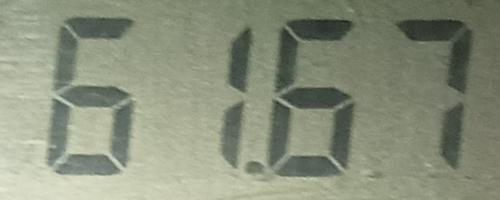.: (245, 155, 265, 181)
